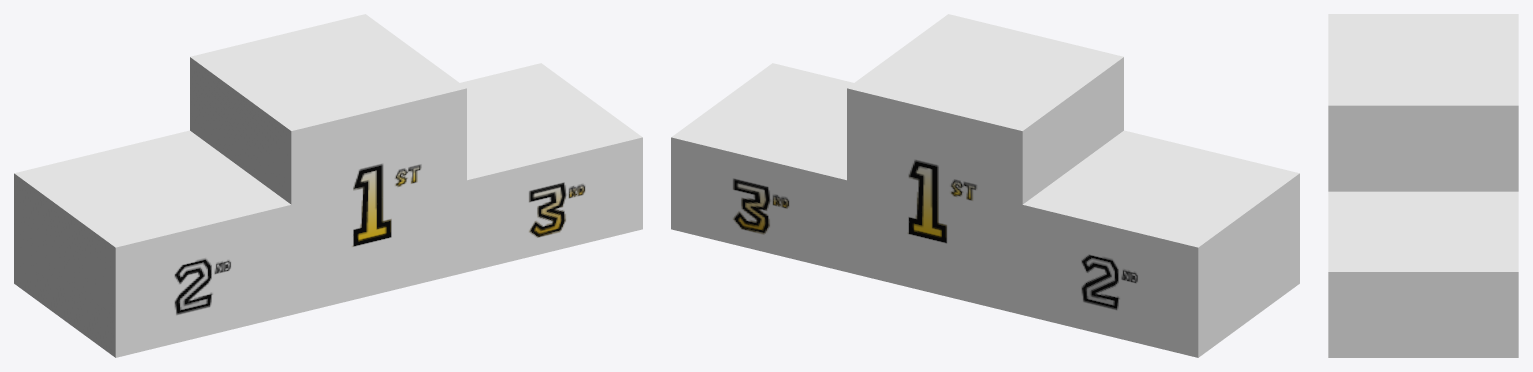
Rendered from podium.FBX.
3 renders of one model, left to right at view 1: azimuth 30°, elevation 25°; view 2: azimuth 150°, elevation 25°; view 3: azimuth 270°, elevation 25°, orthographic. The views are drawn at different scales.
Visible parts, largest first — view 1: Box01, Box02, Box03; view 2: Box01, Box02, Box03; view 3: Box01, Box03, Box02.
Boxes of the visible parts, x1,y1,x2,y2 form: Box01: (190, 14, 466, 314); Box02: (14, 130, 291, 357); Box03: (460, 63, 642, 271); Box01: (847, 14, 1123, 314); Box02: (1022, 130, 1299, 357); Box03: (671, 63, 853, 271); Box01: (1328, 25, 1518, 191); Box03: (1328, 191, 1518, 357); Box02: (1328, 14, 1518, 25).
Bounding box in the file's own units: 1.18 × 0.3938 × 0.3942.
3 materials, 3 textured.
